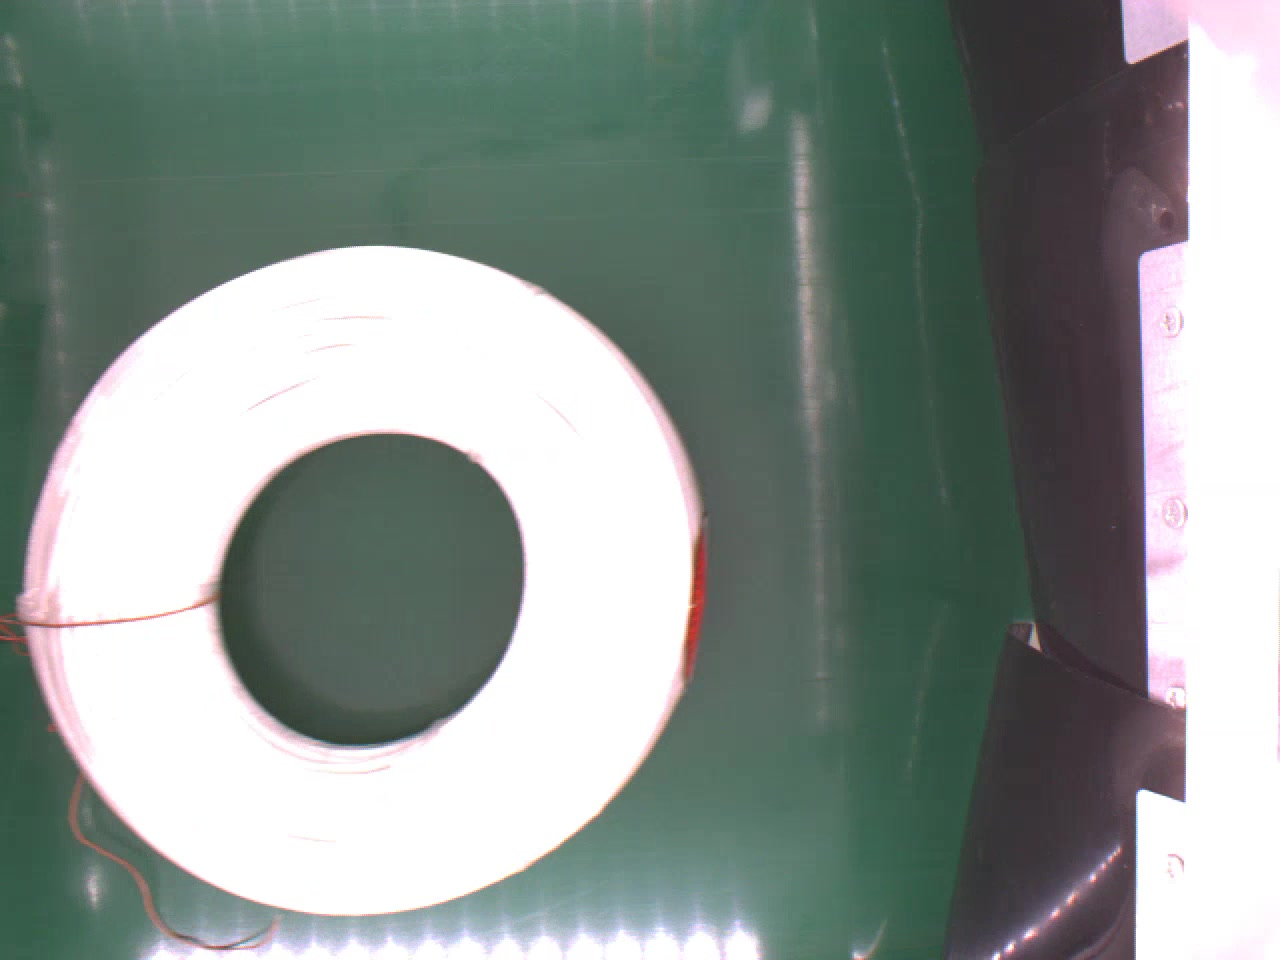white: (19, 240, 697, 912)
